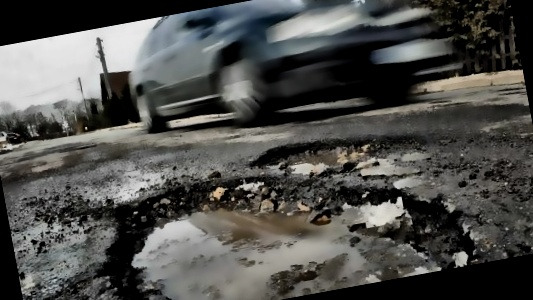pothole: (86, 127, 488, 300), (247, 118, 425, 190)
